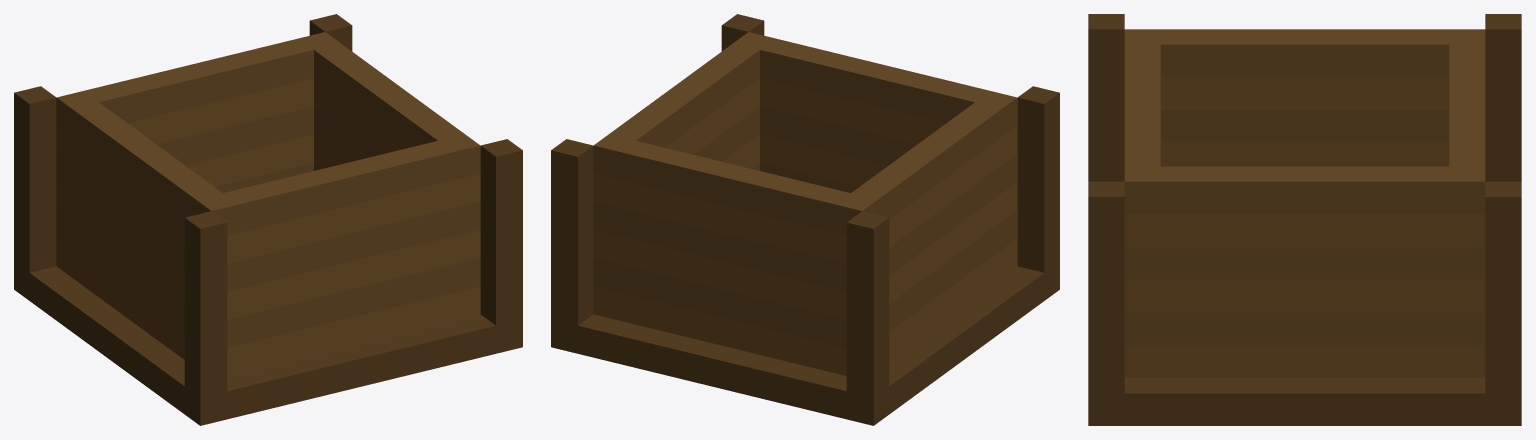
File: Decor-20.obj
3 renders of one model, left to right at view 1: azimuth 30°, elevation 25°; view 2: azimuth 150°, elevation 25°; view 3: azimuth 270°, elevation 25°, orthographic. The views are drawn at different scales.
Bounding box in the file's own units: 1.2 × 0.7 × 1.2.
Materials: 1 (1 with a texture image).
